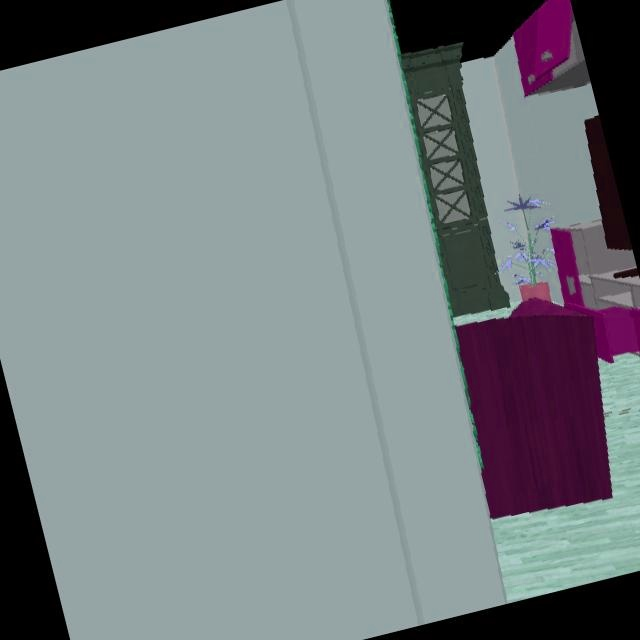bookshelf: (401, 41, 510, 318)
cabinet: (550, 220, 640, 364), (513, 0, 590, 98)
monitor: (584, 115, 633, 252)
sofa: (456, 300, 614, 519)
